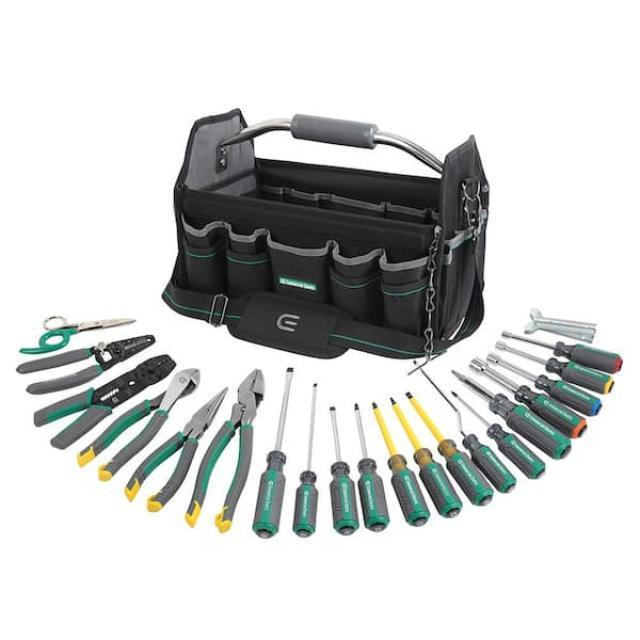screwdriver: (447, 366, 574, 466), (402, 386, 497, 510), (448, 387, 550, 483), (388, 395, 466, 520), (246, 366, 298, 536), (370, 399, 432, 529), (348, 395, 392, 532), (288, 378, 320, 538), (326, 402, 362, 538)
